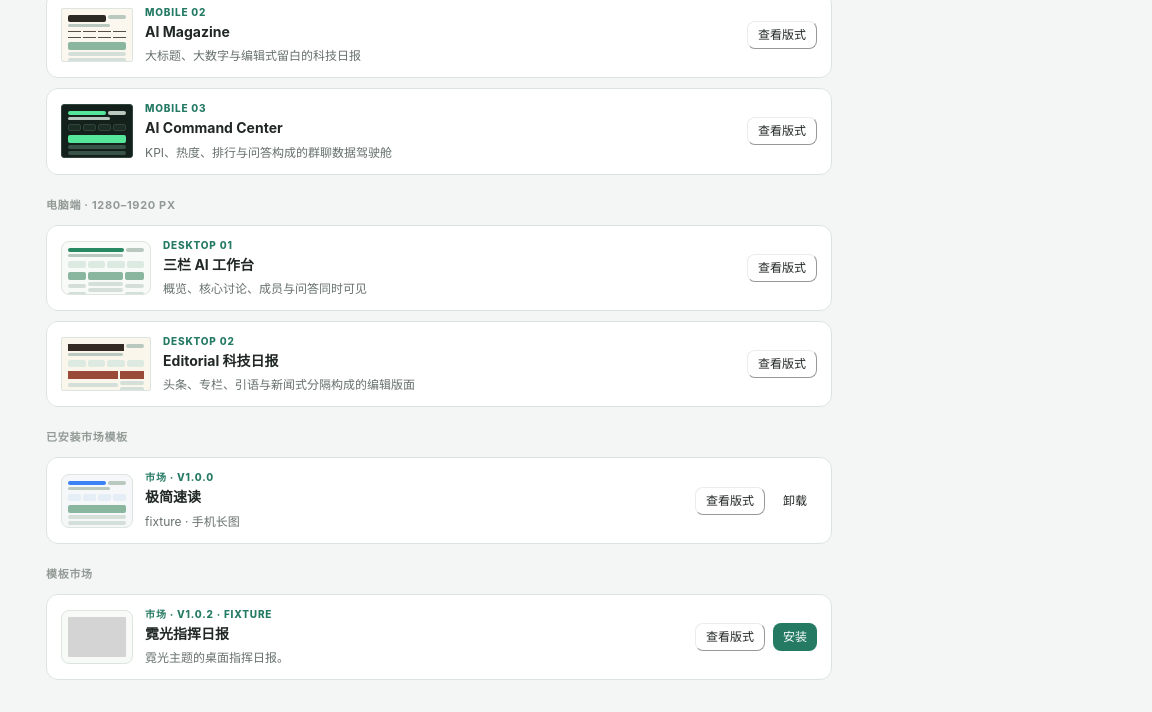
Test: ReportTemplateMarketWorkspace › installs a market template and refreshes the list
(page scrolled)
Click the button "安装". click: (795, 637)
box: [773,623,817,651]
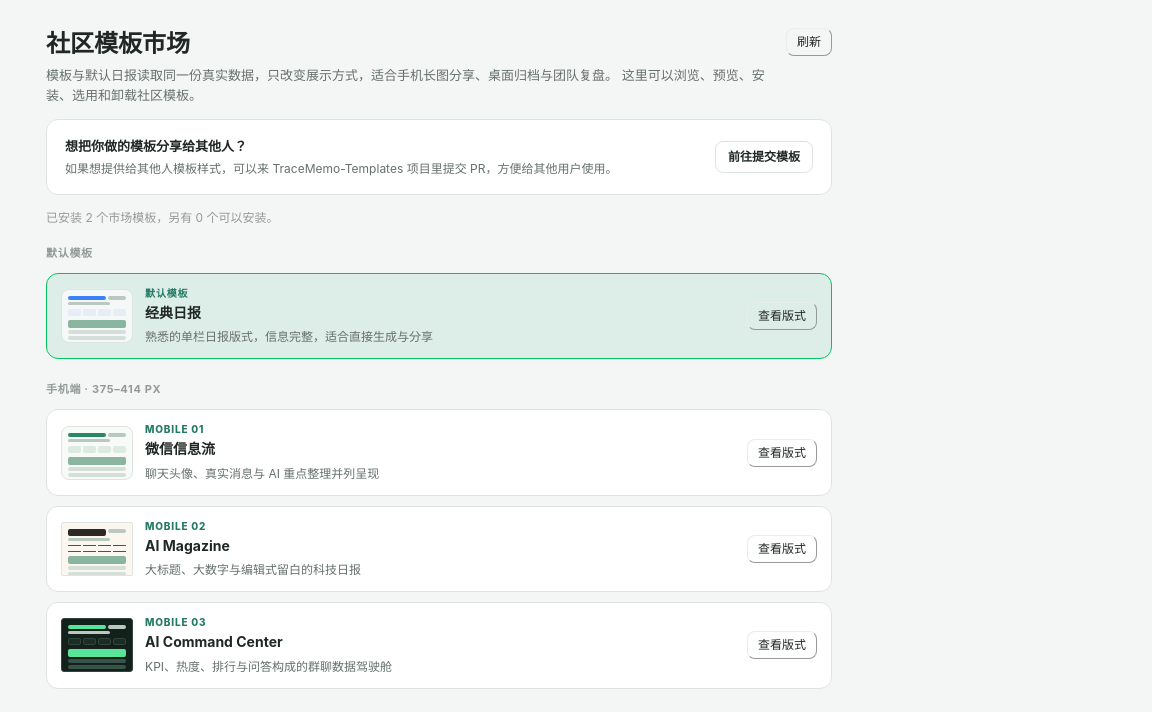
Expected: the text "已安装 2 个市场模板，另有 0 个可以安装。" is shown, [46,210,278,225]
